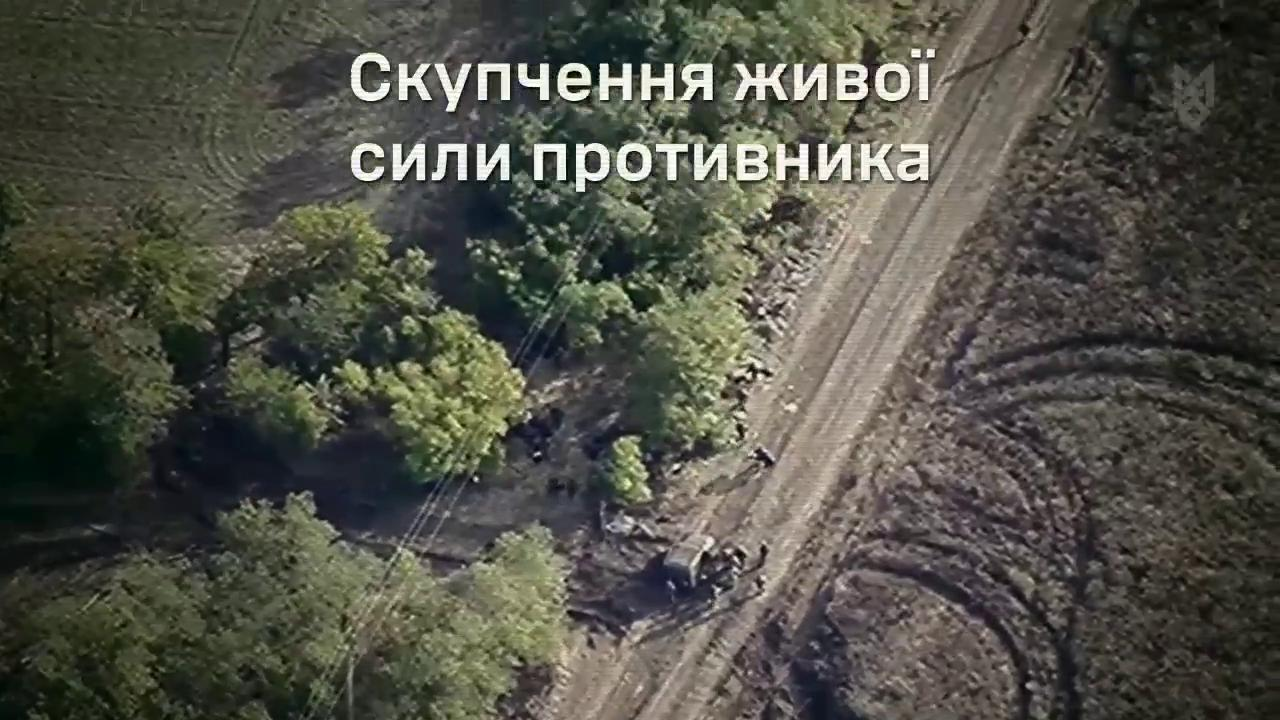tank: (661, 526, 725, 595)
